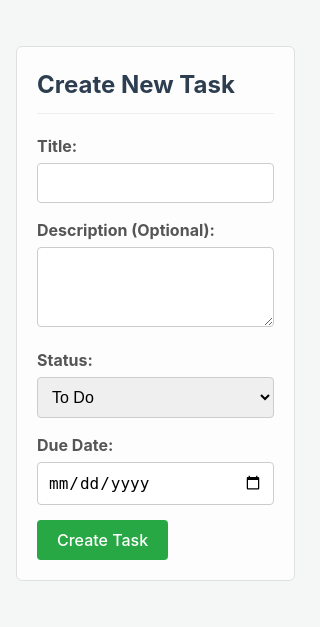
Test: <TaskForm /> › shows error message if createTask service fails
Type "Task That Fails" into the field labelled "Title:". click: {"x": 156, "y": 182}
box: [37,162,274,202]
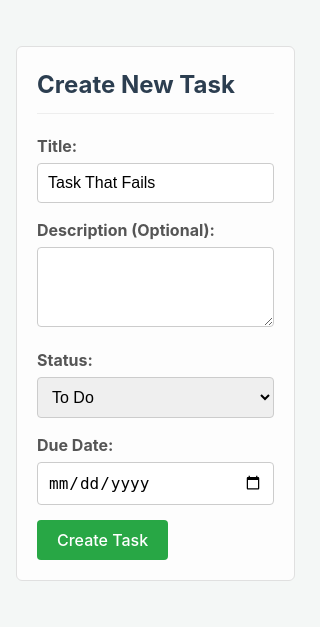
Select "To Do" in the dropdown labelled "Status:". click: {"x": 156, "y": 397}
box: [37,376,274,418]
Type "2024-11-01" into the date field labelled "Due Date:". click: {"x": 156, "y": 483}
box: [37,462,274,504]
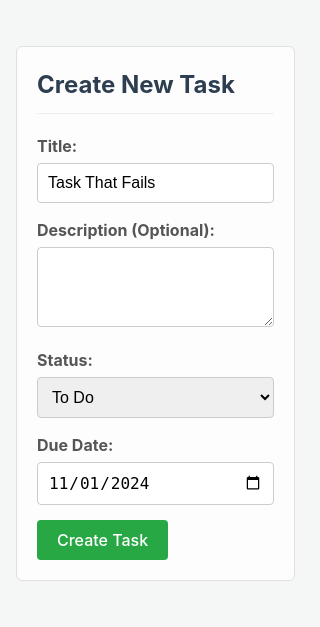
Click the button "Create Task". click: {"x": 103, "y": 540}
box: [37,520,168,560]
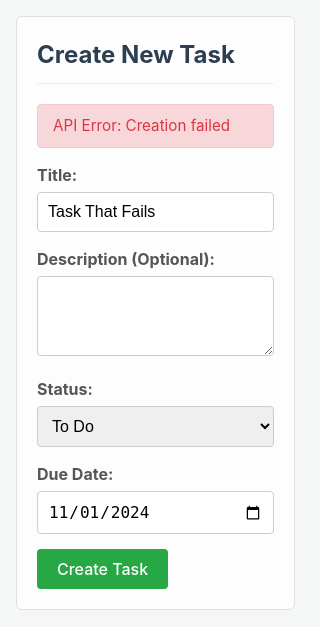
Now the text "API Error: Creation failed" is shown, box [37,104,274,148]
